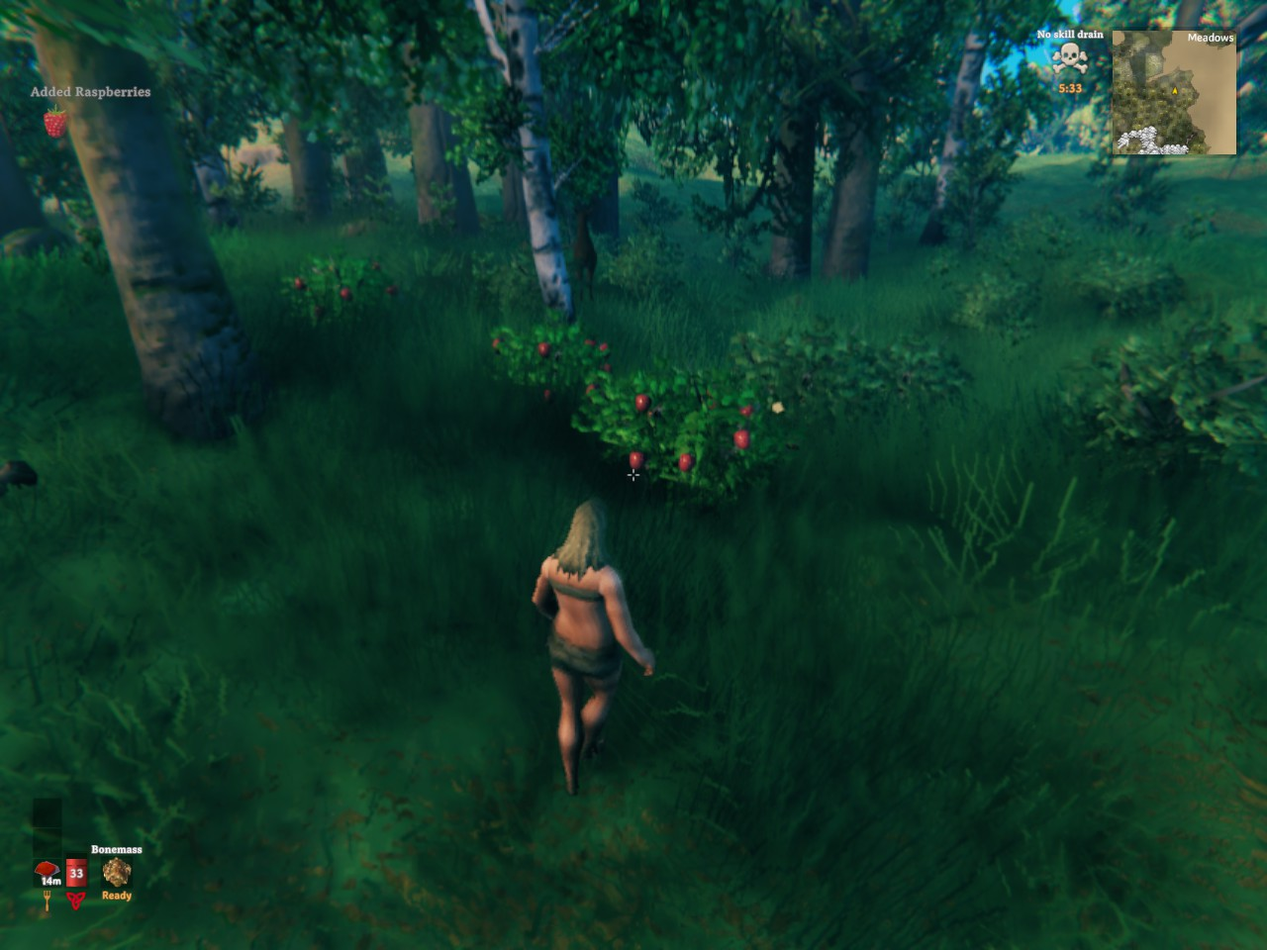Raspberries: (600, 382, 781, 490), (484, 324, 616, 403), (287, 259, 402, 329)
